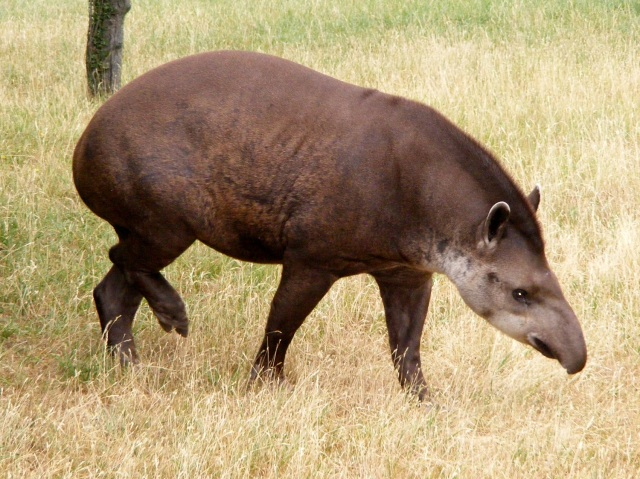Anta: (69, 46, 591, 409)
